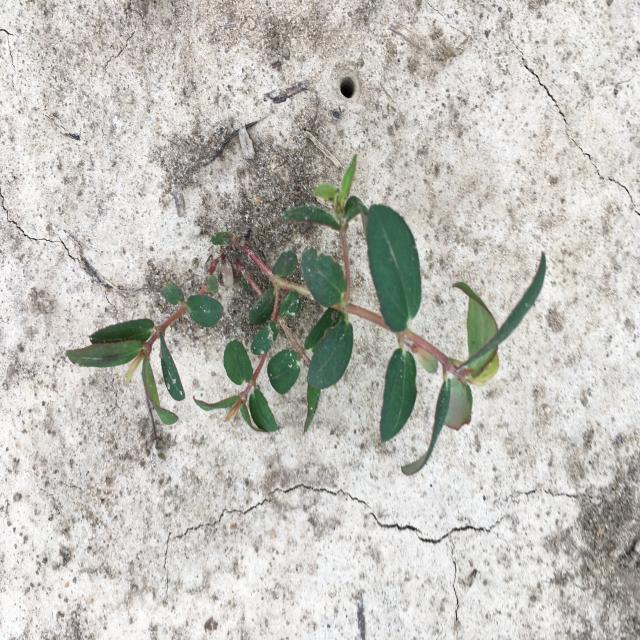SpottedSpurge: (66, 154, 546, 476)
